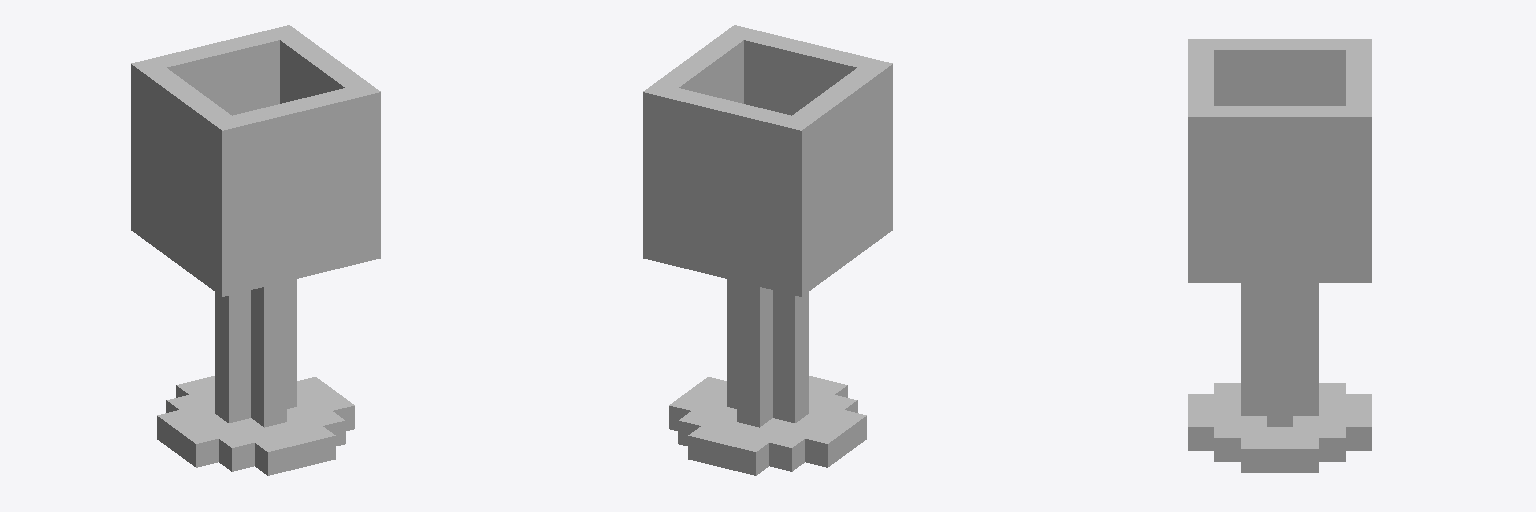
The model's file is copo.obj.
The picture shows the model from 3 angles: view 1: azimuth 30°, elevation 25°; view 2: azimuth 150°, elevation 25°; view 3: azimuth 270°, elevation 25°; orthographic projection.
Visible parts, largest first — view 1: copo; view 2: copo; view 3: copo.
Boxes of the visible parts, x1=… form: copo: x1=131, y1=25, x2=380, y2=475; copo: x1=643, y1=25, x2=892, y2=475; copo: x1=1188, y1=39, x2=1371, y2=472.
Size of the model in its own units: 7 by 15 by 7.